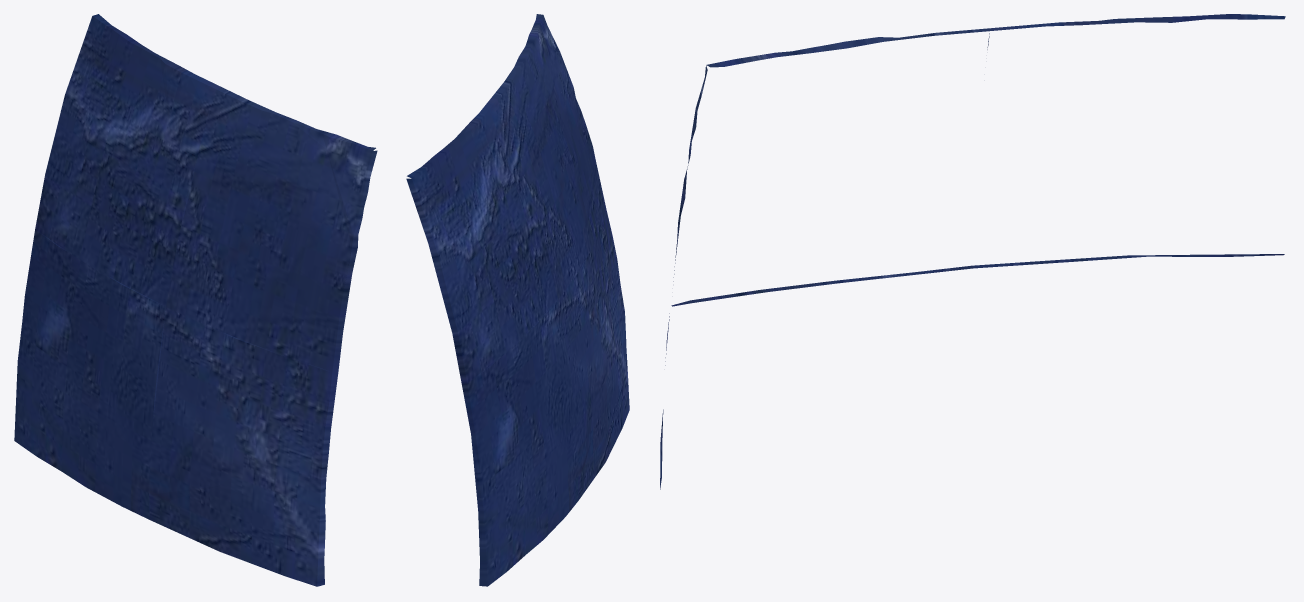
3 renders of one model, left to right at view 1: azimuth 30°, elevation 25°; view 2: azimuth 150°, elevation 25°; view 3: azimuth 270°, elevation 25°, orthographic. The views are drawn at different scales.
Size of the model in its own units: 975775 by 2458702 by 2468349.
Materials: 1 (1 with a texture image).
